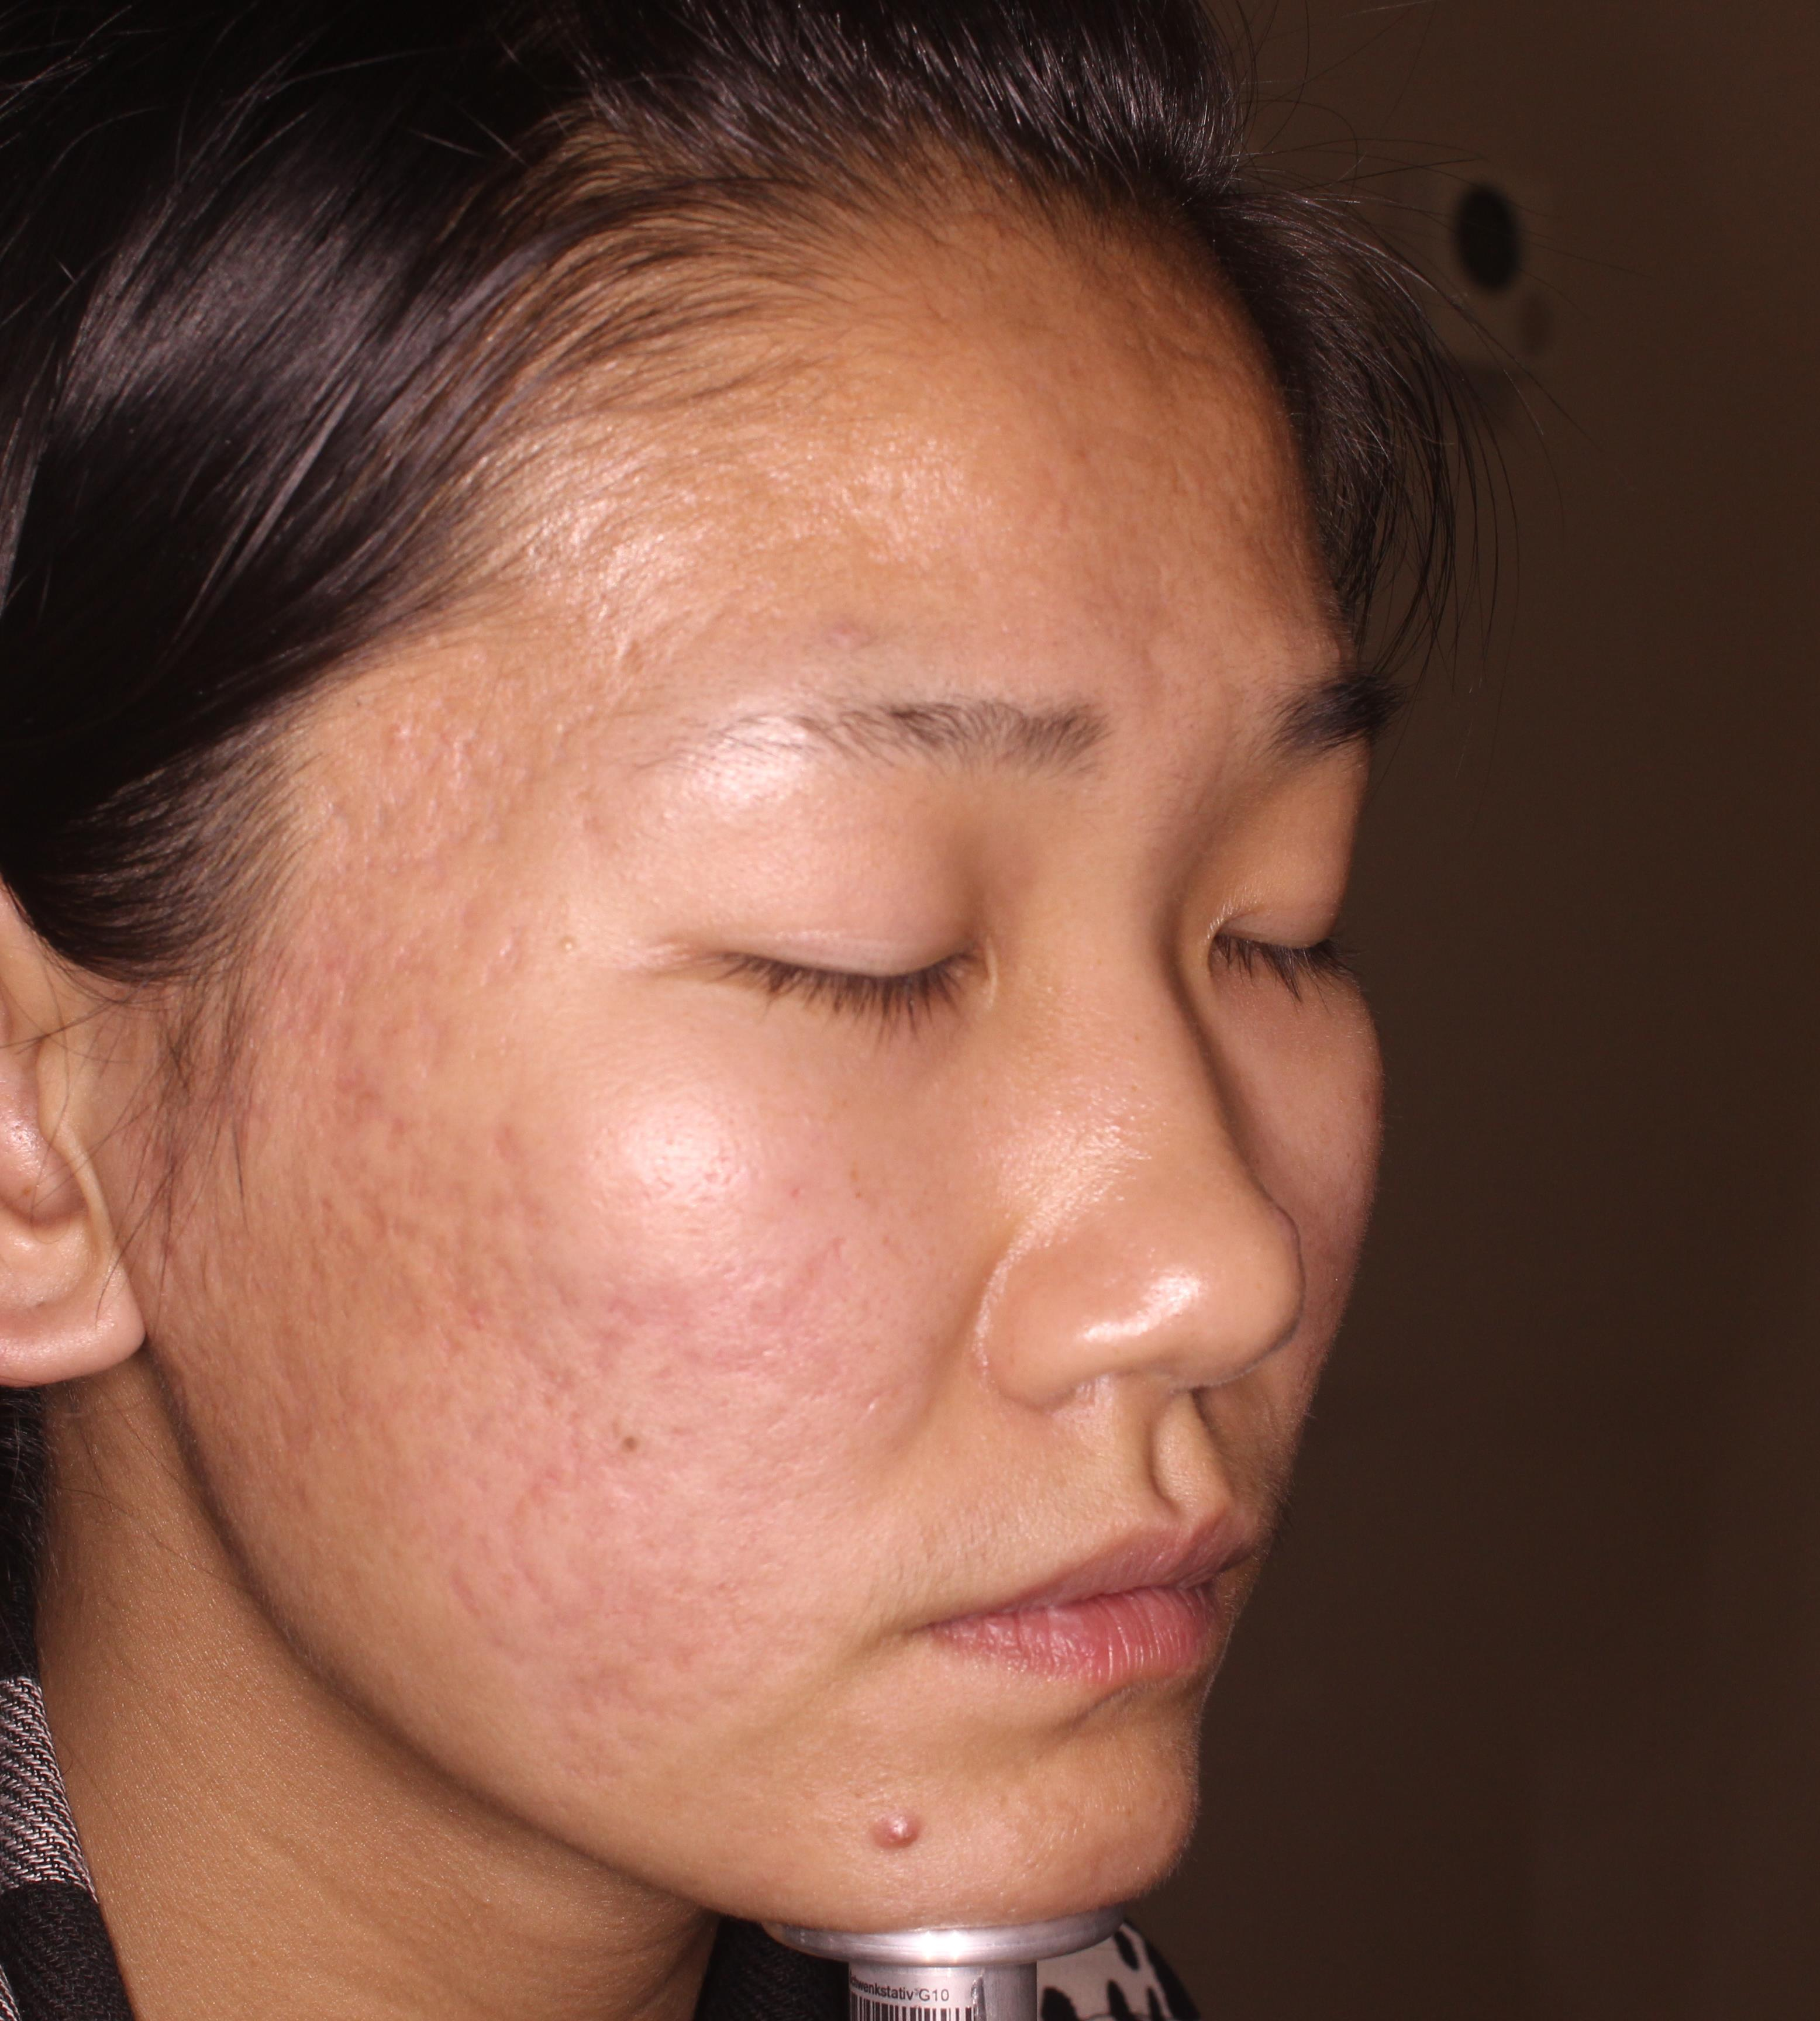fore: (870, 1786, 915, 1881)
